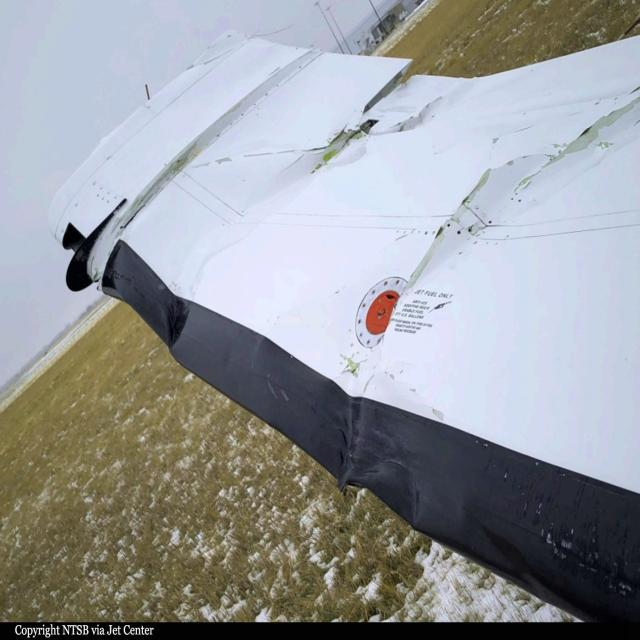crack: (522, 95, 640, 194), (401, 166, 492, 292), (307, 114, 389, 179)
dent: (176, 178, 308, 338)
